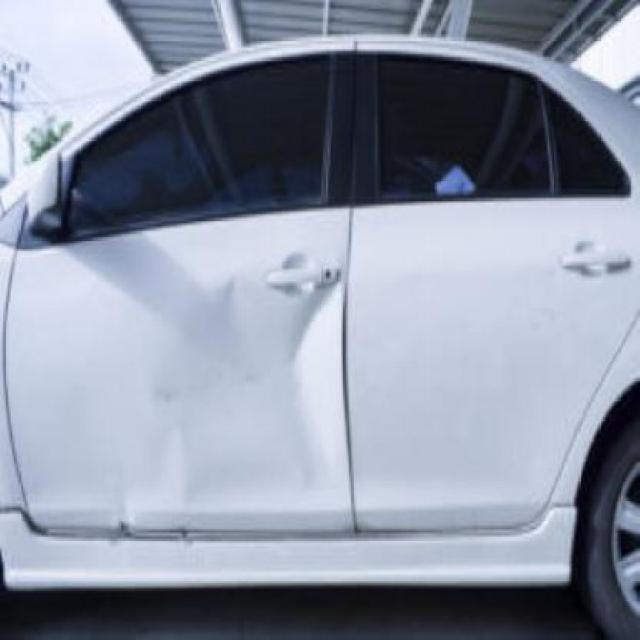minor: (117, 518, 129, 535)
moderate: (140, 252, 349, 514)
